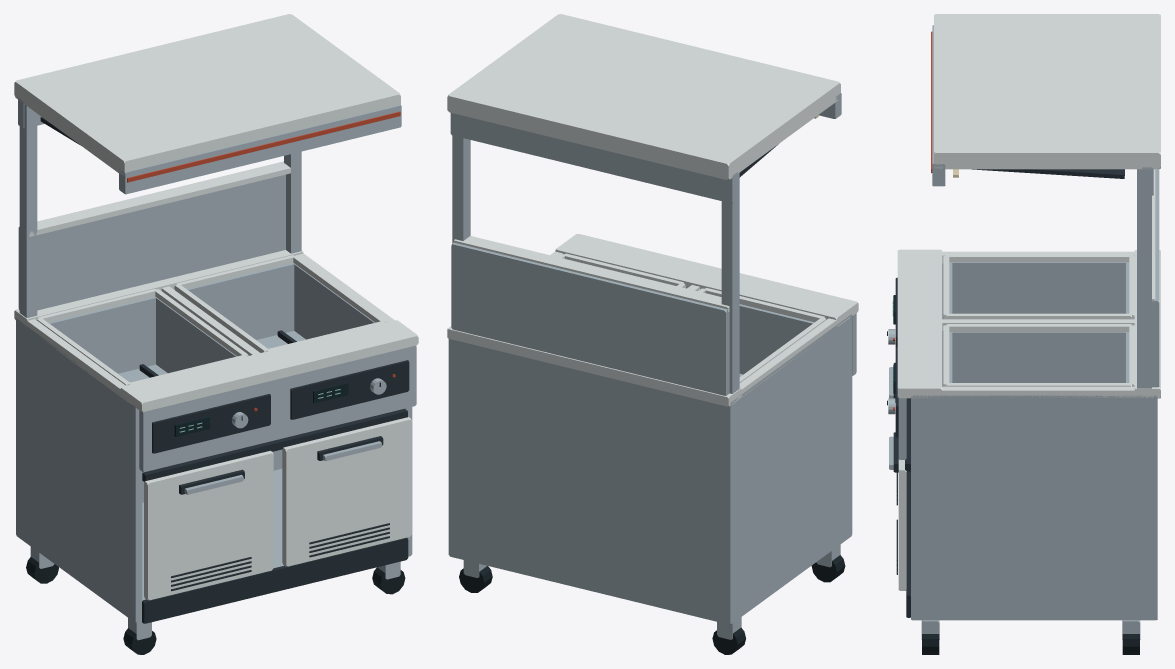
The model's file is Fryer_Double.glb.
The picture shows the model from 3 angles, left to right: view 1: azimuth 30°, elevation 25°; view 2: azimuth 150°, elevation 25°; view 3: azimuth 270°, elevation 25°; orthographic projection. The views are drawn at different scales.
Parts seen in each view (by area): view 1: Body, Door01, Door02, Controls; view 2: Body; view 3: Body, Door02, Controls, Vent.
Part boxes in pixels (bbox=[...]): Body: bbox=[14, 14, 418, 654]; Door01: bbox=[144, 450, 273, 600]; Door02: bbox=[282, 417, 411, 566]; Controls: bbox=[152, 360, 409, 453]; Body: bbox=[447, 14, 858, 654]; Body: bbox=[897, 14, 1160, 654]; Door02: bbox=[889, 432, 906, 590]; Controls: bbox=[887, 277, 898, 437]; Vent: bbox=[972, 169, 1124, 178].
Bounding box in the file's own units: 1 × 1.7 × 0.8325.
